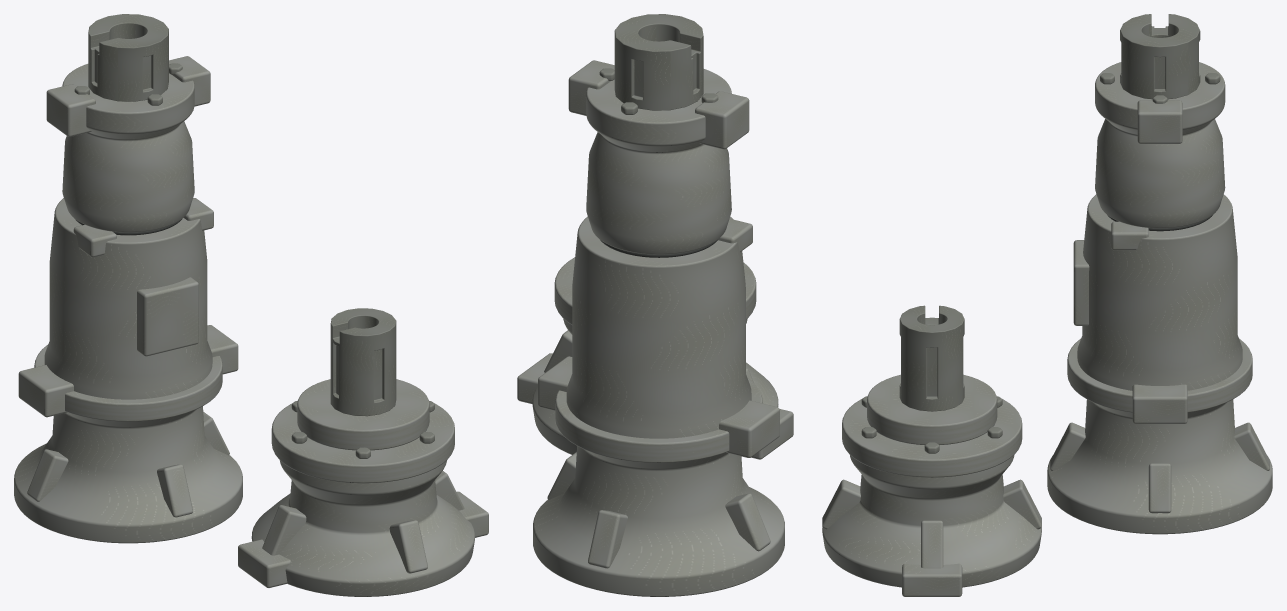
File: brake_valves_photo_slotted.glb
The picture shows the model from 3 angles, left to right: view 1: azimuth 30°, elevation 25°; view 2: azimuth 150°, elevation 25°; view 3: azimuth 270°, elevation 25°; orthographic projection. The views are drawn at different scales.
Parts seen in each view (by area): view 1: Tall_Lower_Casting, Short_Lower_Casting, Tall_Upper_Casting, Short_Flange, Short_Exposed_Spindle, Tall_Exposed_Spindle, Short_Cover, Tall_Front_Cast_Boss, Tall_Lower_Flange, Tall_Lower_Flange_Ear_1, Tall_Cap_Ear_1, Short_Mounting_Lug_-0.042 (+8 smaller); view 2: Tall_Lower_Casting, Tall_Upper_Casting, Tall_Exposed_Spindle, Tall_Lower_Flange, Tall_Lower_Flange_Ear_1, Tall_Cap_Ear_1, Short_Lower_Casting, Tall_Foot_Rib_1, Short_Flange, Tall_Foot_Rib_2, Tall_Cap_Ear_0, Tall_Lower_Flange_Ear_0 (+6 smaller); view 3: Tall_Lower_Casting, Short_Lower_Casting, Tall_Upper_Casting, Short_Flange, Short_Exposed_Spindle, Tall_Exposed_Spindle, Short_Cover, Tall_Lower_Flange, Tall_Lower_Flange_Ear_0, Tall_Cap_Ear_0, Short_Mounting_Lug_0.042, Tall_Front_Cast_Boss (+7 smaller).
Boxes of the visible parts, left/top/right/bottom form: Tall_Lower_Casting: left=14, top=198, right=242, bottom=543; Short_Lower_Casting: left=251, top=460, right=474, bottom=596; Tall_Upper_Casting: left=62, top=64, right=194, bottom=232; Short_Flange: left=271, top=403, right=454, bottom=483; Short_Exposed_Spindle: left=330, top=308, right=396, bottom=416; Tall_Exposed_Spindle: left=88, top=14, right=168, bottom=101; Short_Cover: left=297, top=379, right=429, bottom=450; Tall_Front_Cast_Boss: left=137, top=277, right=198, bottom=356; Tall_Lower_Flange: left=34, top=345, right=222, bottom=421; Tall_Lower_Flange_Ear_1: left=18, top=365, right=73, bottom=417; Tall_Cap_Ear_1: left=46, top=84, right=95, bottom=136; Short_Mounting_Lug_-0.042: left=238, top=539, right=290, bottom=587; Tall_Lower_Casting: left=533, top=216, right=784, bottom=596; Tall_Upper_Casting: left=586, top=69, right=731, bottom=254; Tall_Exposed_Spindle: left=614, top=14, right=703, bottom=110; Tall_Lower_Flange: left=555, top=378, right=762, bottom=462; Tall_Lower_Flange_Ear_1: left=719, top=400, right=779, bottom=457; Tall_Cap_Ear_1: left=695, top=91, right=749, bottom=149; Short_Lower_Casting: left=532, top=319, right=778, bottom=454; Tall_Foot_Rib_1: left=588, top=510, right=627, bottom=568; Short_Flange: left=554, top=257, right=756, bottom=324; Tall_Foot_Rib_2: left=725, top=493, right=770, bottom=551; Tall_Cap_Ear_0: left=568, top=60, right=614, bottom=115; Tall_Lower_Flange_Ear_0: left=538, top=356, right=572, bottom=410; Tall_Lower_Casting: left=1047, top=194, right=1272, bottom=534; Short_Lower_Casting: left=822, top=455, right=1041, bottom=587; Tall_Upper_Casting: left=1095, top=62, right=1225, bottom=228; Short_Flange: left=842, top=399, right=1022, bottom=477; Short_Exposed_Spindle: left=899, top=305, right=964, bottom=411; Tall_Exposed_Spindle: left=1120, top=14, right=1200, bottom=99; Short_Cover: left=867, top=374, right=997, bottom=445; Tall_Lower_Flange: left=1067, top=338, right=1252, bottom=412; Tall_Lower_Flange_Ear_0: left=1132, top=384, right=1187, bottom=423; Tall_Cap_Ear_0: left=1137, top=100, right=1182, bottom=143; Short_Mounting_Lug_0.042: left=902, top=563, right=962, bottom=596; Tall_Front_Cast_Boss: left=1073, top=240, right=1089, bottom=325.
Size of the model in its own units: 0.1495 by 0.2015 by 0.1799.
Materials: 3 (2 with a texture image).
